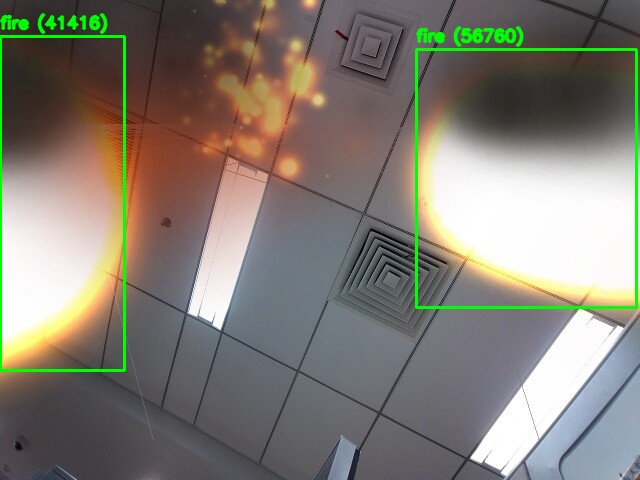fire: (416, 49, 636, 307), (0, 36, 124, 370)
